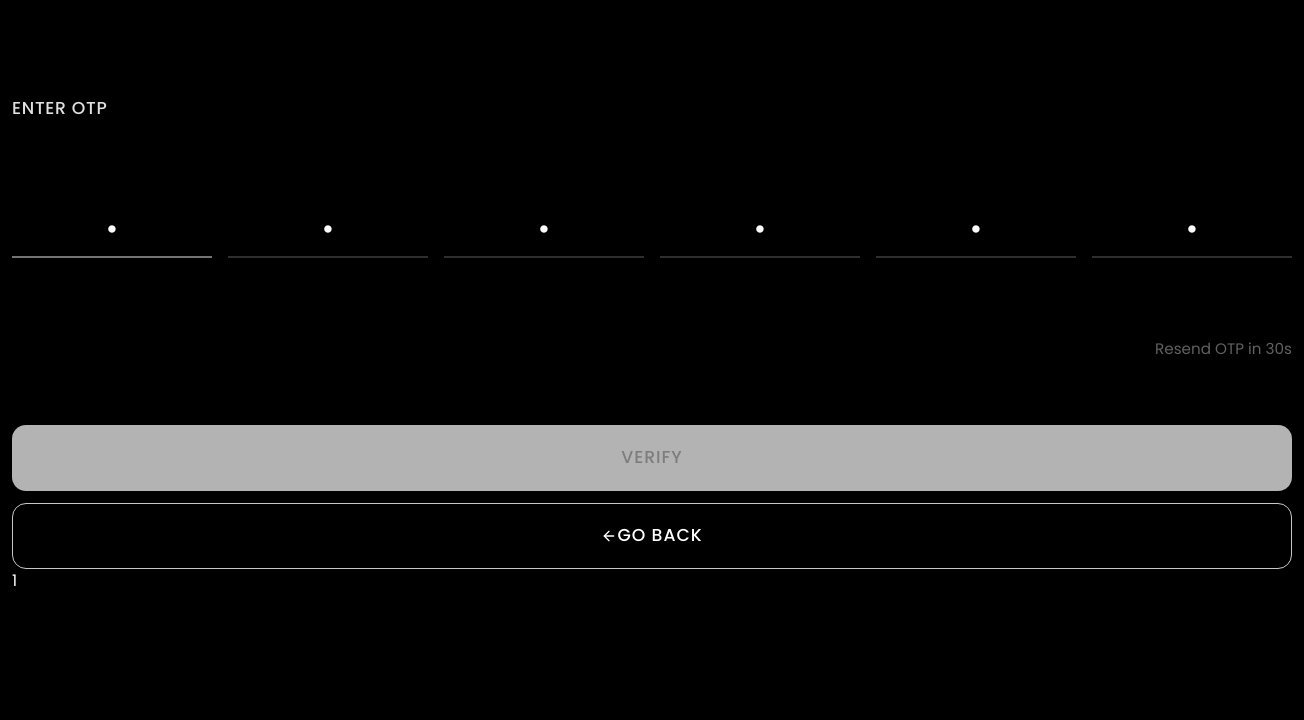
Test: OtpStep › shows an inline error when the code has expired
Type "1" into the field named "Digit 1 of 6". click: (112, 230)
box: [12, 202, 212, 258]
Type "2" into the field named "Digit 2 of 6". click: (328, 230)
box: [228, 202, 428, 258]
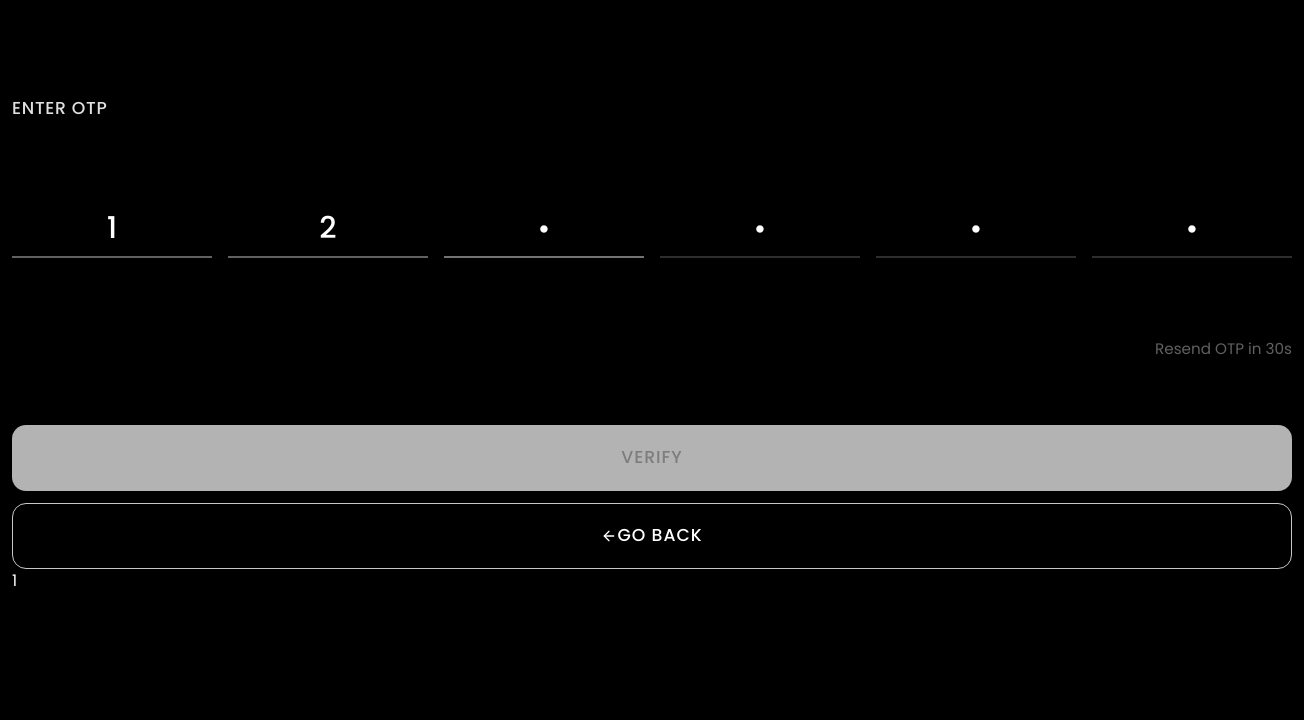
Type "3" into the field named "Digit 3 of 6". click: (544, 230)
box: [444, 202, 644, 258]
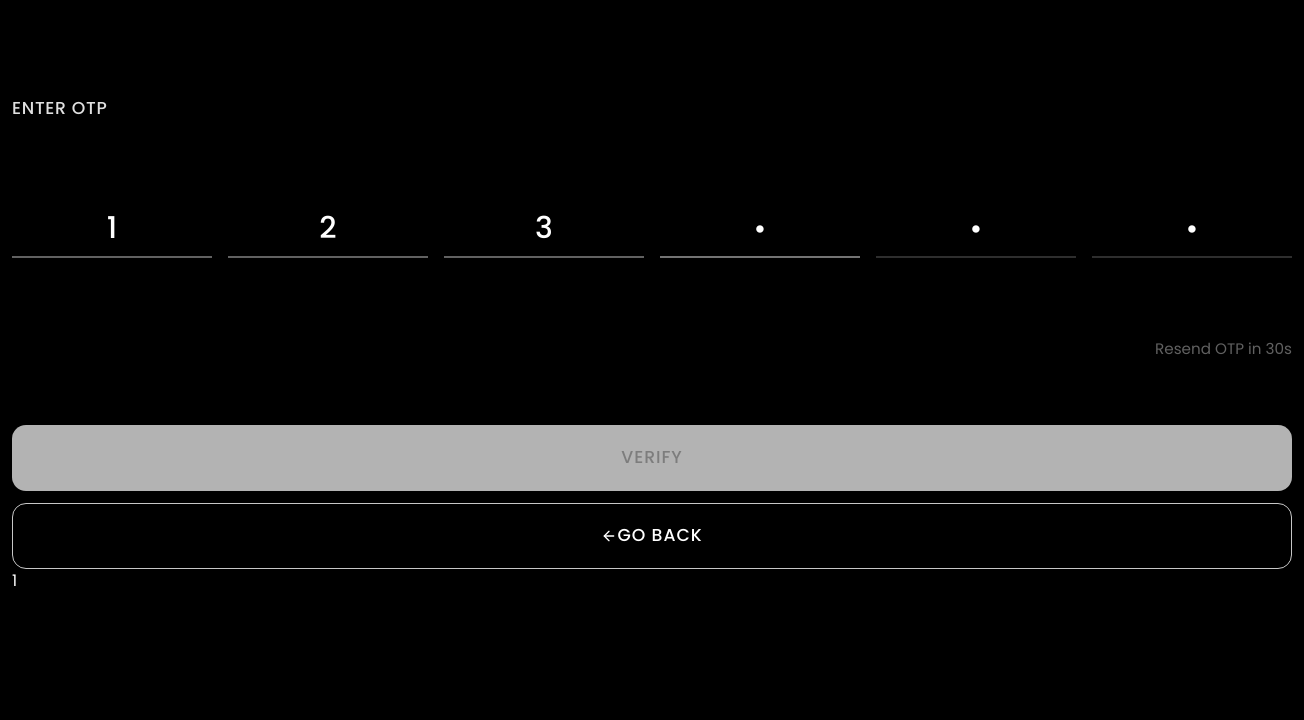
Type "4" into the field named "Digit 4 of 6". click: (760, 230)
box: [660, 202, 860, 258]
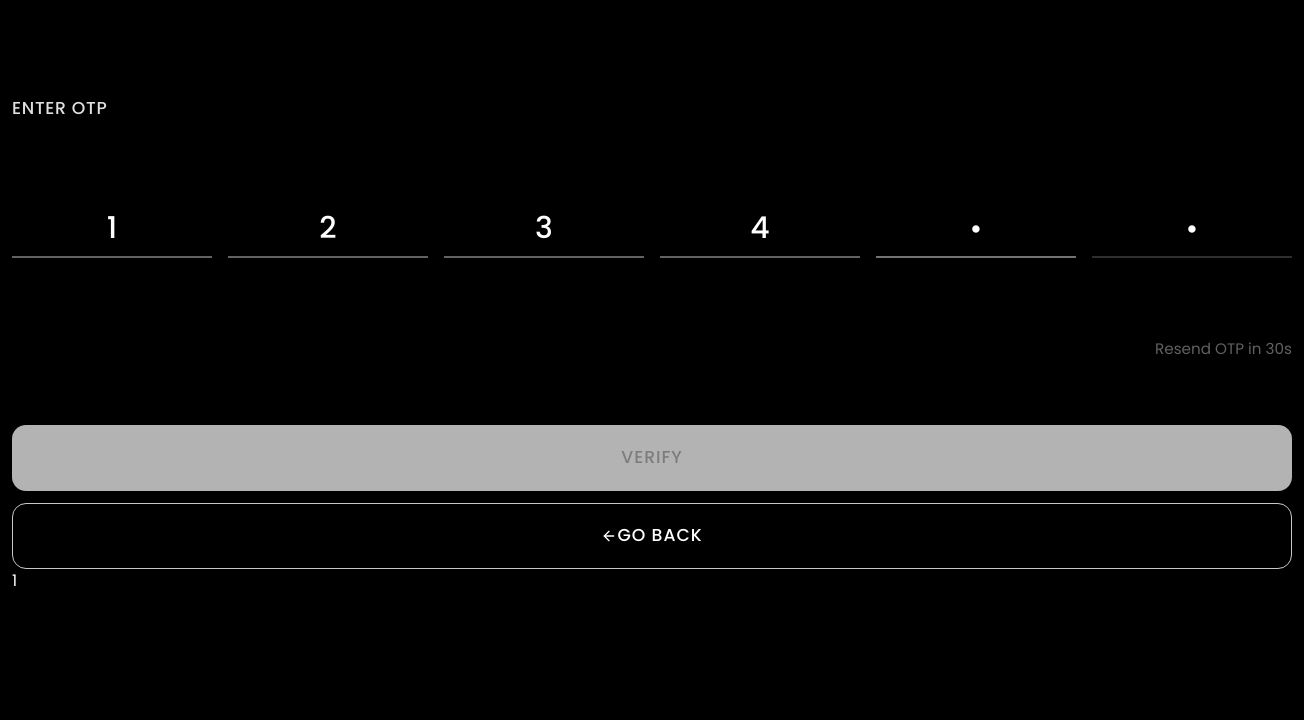
Type "5" into the field named "Digit 5 of 6". click: (976, 230)
box: [876, 202, 1076, 258]
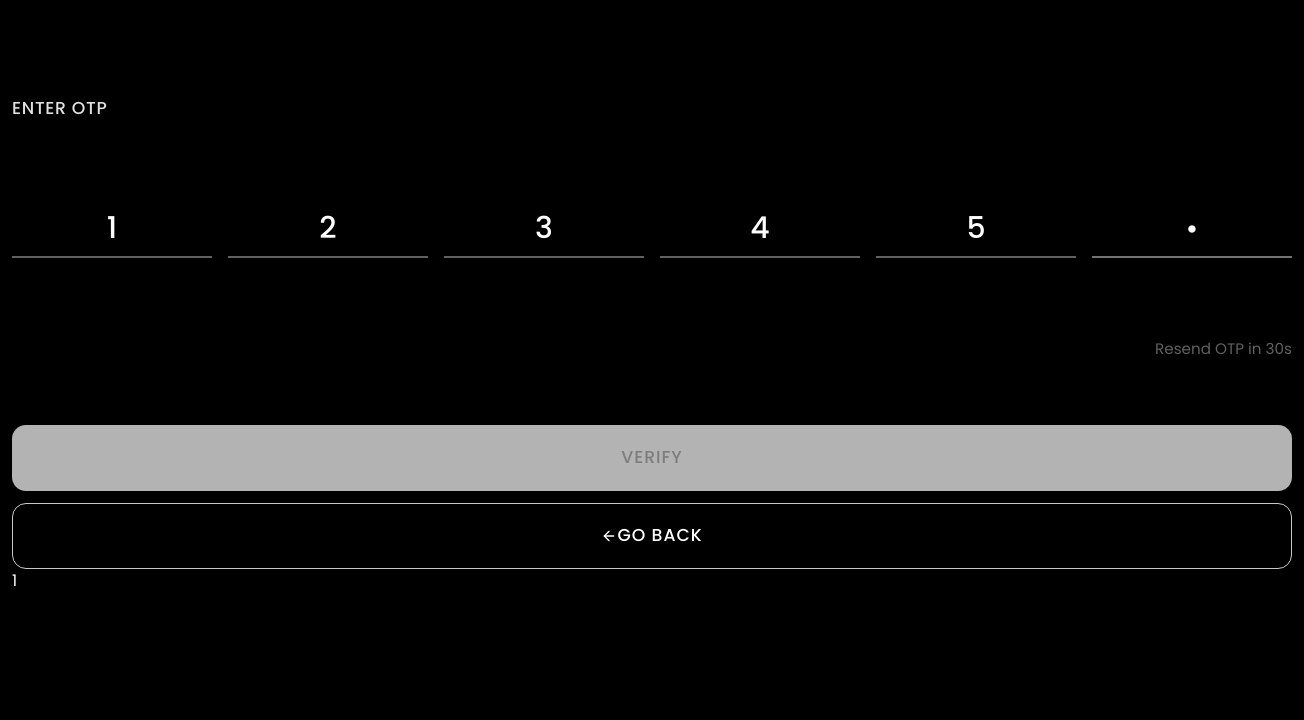
Type "6" into the field named "Digit 6 of 6". click: (1192, 230)
box: [1092, 202, 1292, 258]
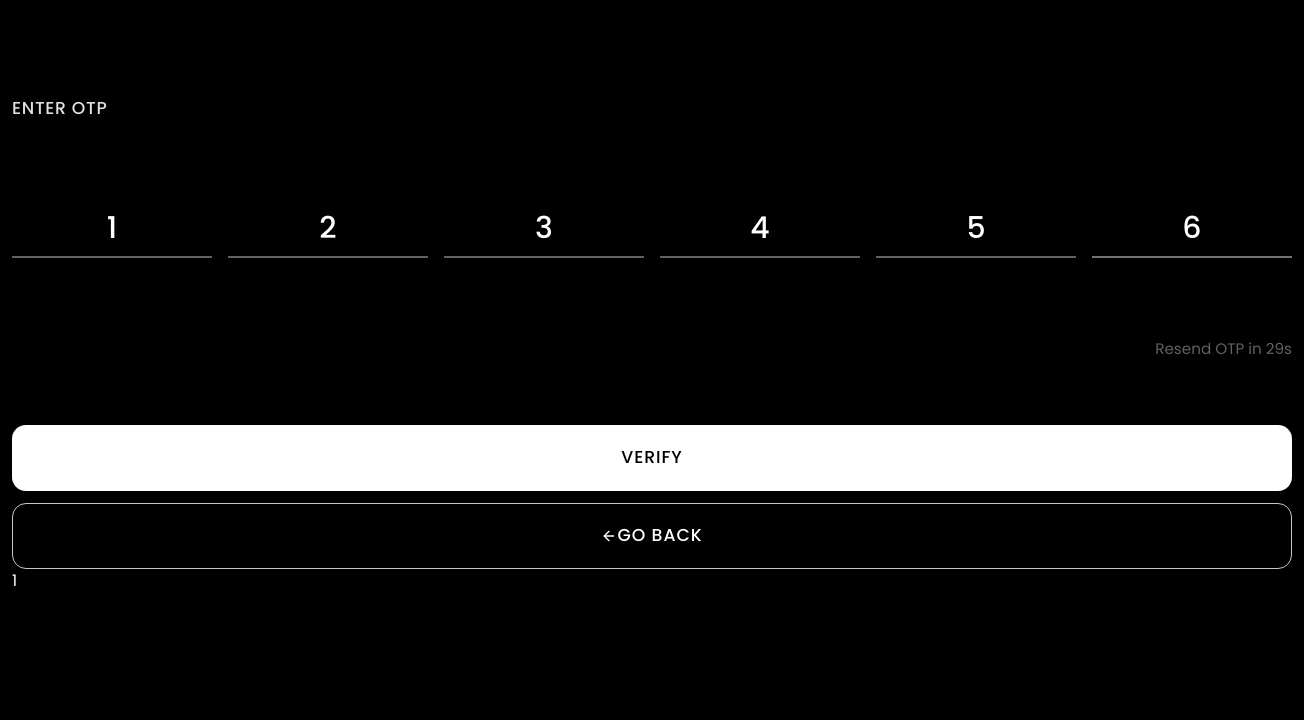
Click the button "VERIFY". click: (652, 458)
box: [12, 425, 1292, 491]
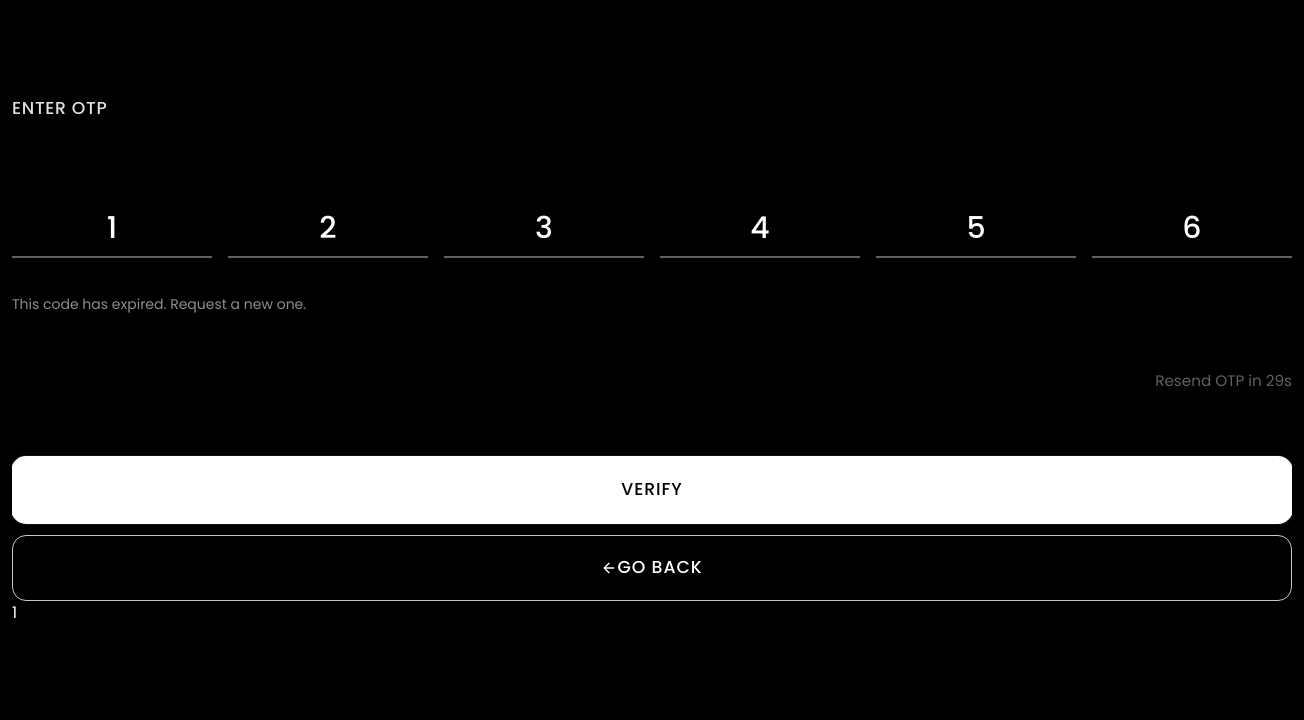
Expected: the text "This code has expired. Request a new one." is shown, [12, 294, 306, 314]
